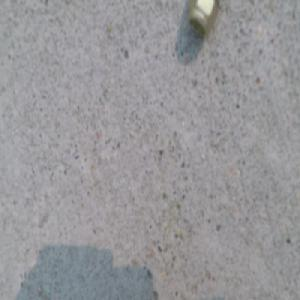BoltNutSet: (190, 0, 218, 35)
